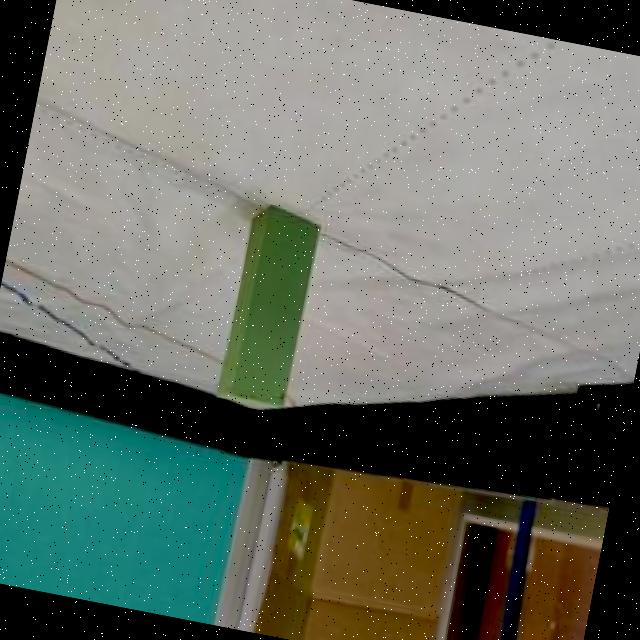greenbox: (210, 200, 326, 414)
